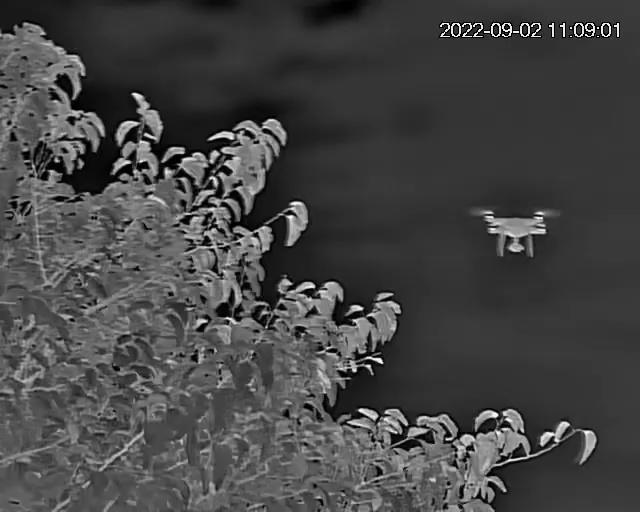DJI-Phantom: (471, 205, 559, 260)
